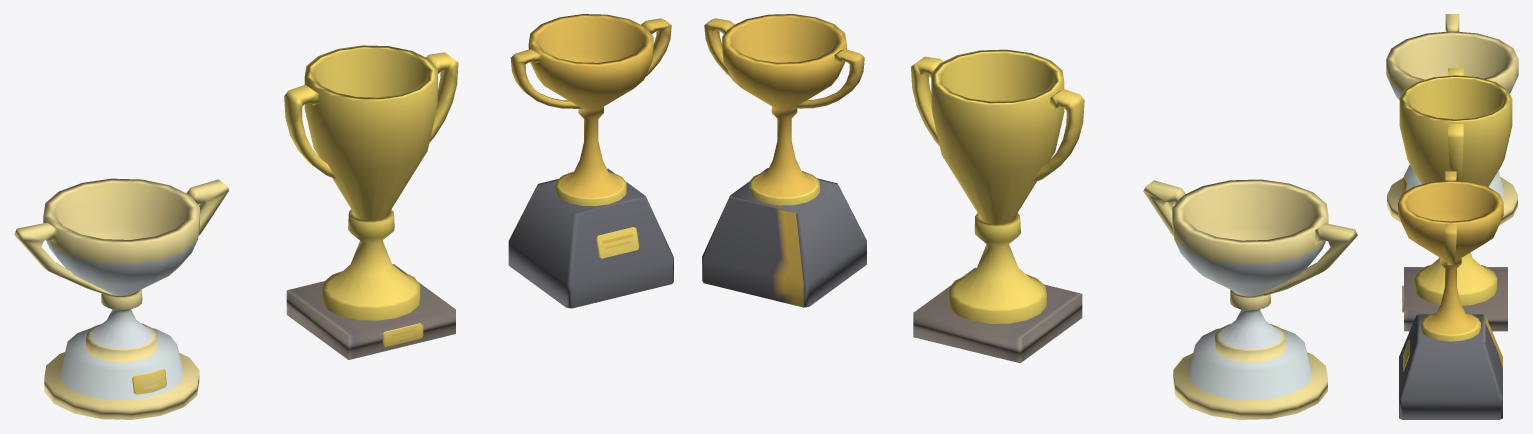
The model's file is trofeo_base.glb.
The picture shows the model from 3 angles, left to right: view 1: azimuth 30°, elevation 25°; view 2: azimuth 150°, elevation 25°; view 3: azimuth 270°, elevation 25°; orthographic projection. The views are drawn at different scales.
Parts seen in each view (by area): view 1: gold_trophy1, gold_trophy3, gold_trophy2; view 2: gold_trophy1, gold_trophy3, gold_trophy2; view 3: gold_trophy2, gold_trophy1, gold_trophy3.
Part boxes in pixels (x1,y1,x2,y2): gold_trophy1: (284, 45, 458, 359); gold_trophy3: (14, 178, 229, 419); gold_trophy2: (508, 14, 673, 308); gold_trophy1: (911, 49, 1084, 363); gold_trophy3: (1143, 179, 1357, 419); gold_trophy2: (702, 14, 866, 307); gold_trophy2: (1398, 171, 1503, 419); gold_trophy1: (1399, 68, 1512, 331); gold_trophy3: (1386, 14, 1518, 225).
Size of the model in its own units: 1.8 by 0.667 by 0.3805.
1 material, 1 textured.
